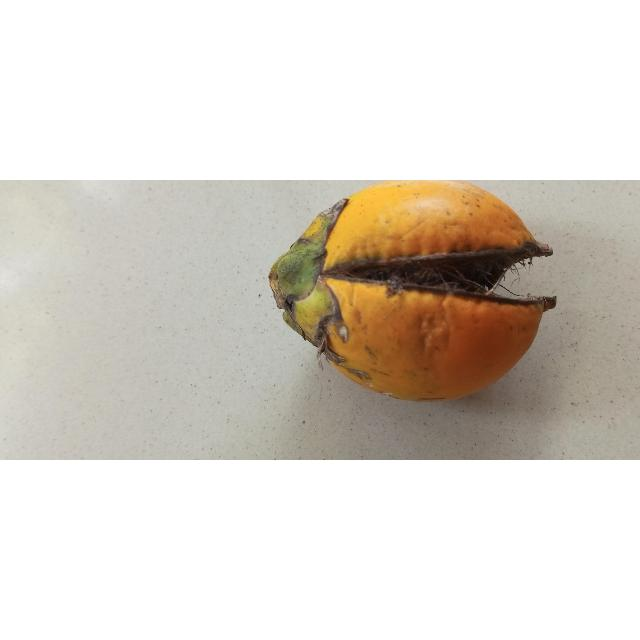damaged: (269, 180, 556, 401)
